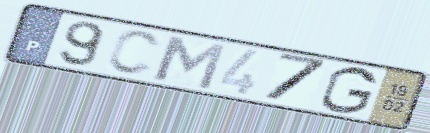4: (216, 47, 261, 97)
7: (265, 51, 331, 106)
9: (57, 20, 107, 69)
C: (105, 28, 165, 77)
G: (317, 65, 381, 116)
M: (152, 32, 230, 92)
